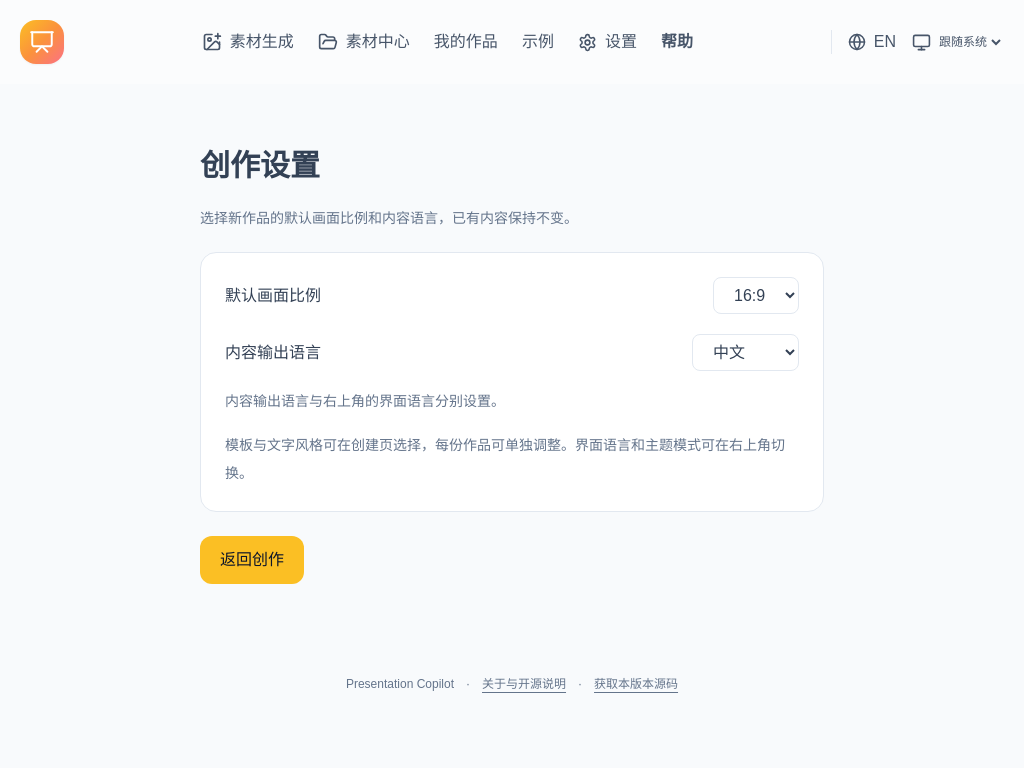
Test: persists output language through business preferences and carries it on generation requests
Select "日本語" in the dropdown labelled "内容输出语言" at [746, 352], box 692,334 -> 799,371
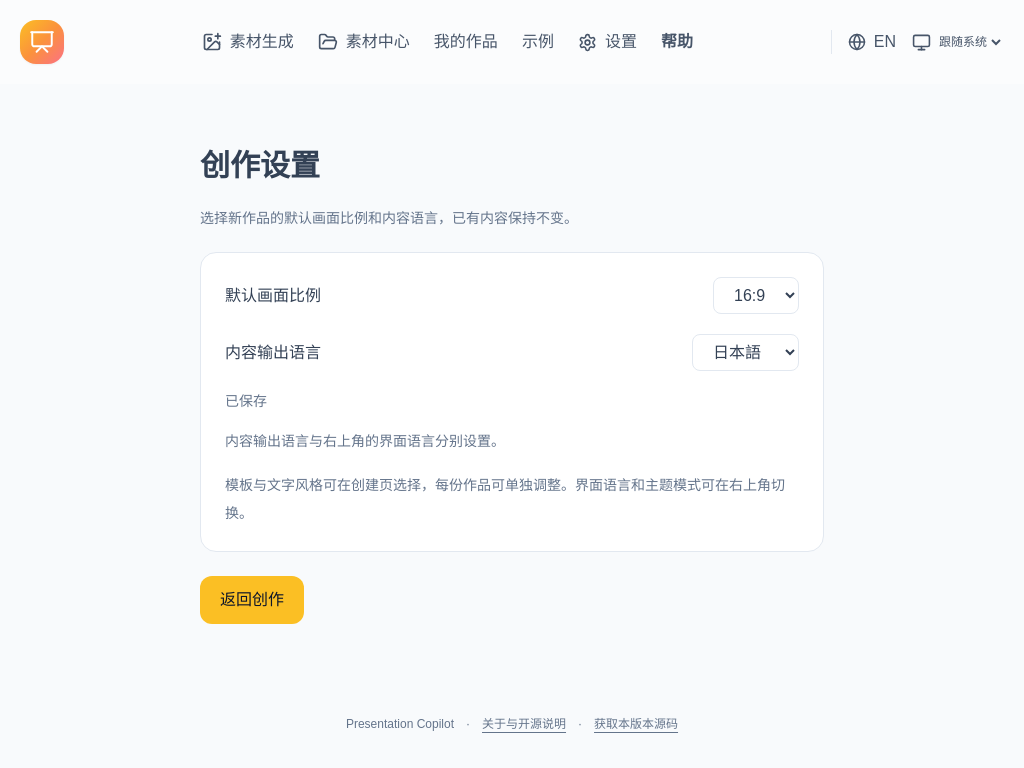
Expected: the text "已保存" is shown, 225,393 -> 267,409
